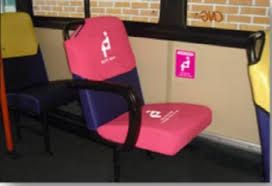seat: (64, 14, 214, 159)
